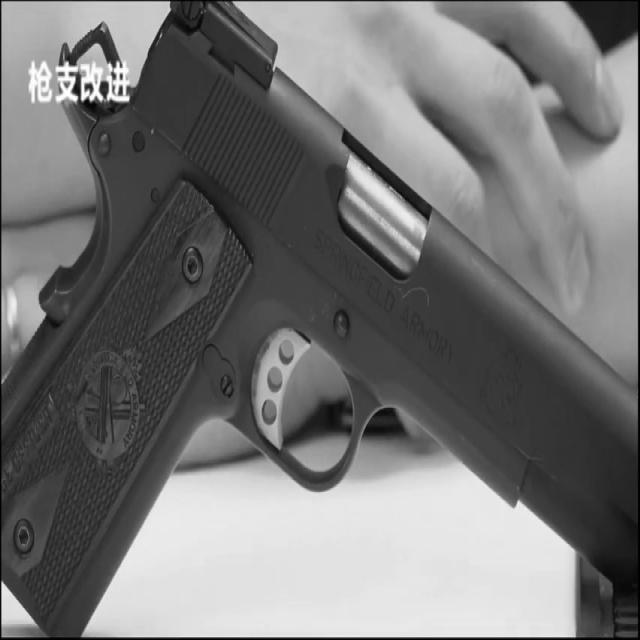Hand-Gun: (9, 10, 600, 606)
